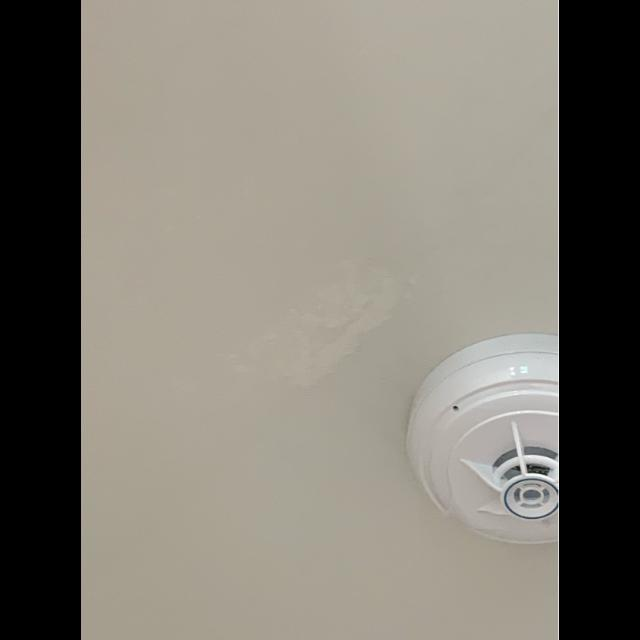Smoke-Detector: (409, 332, 559, 542)
